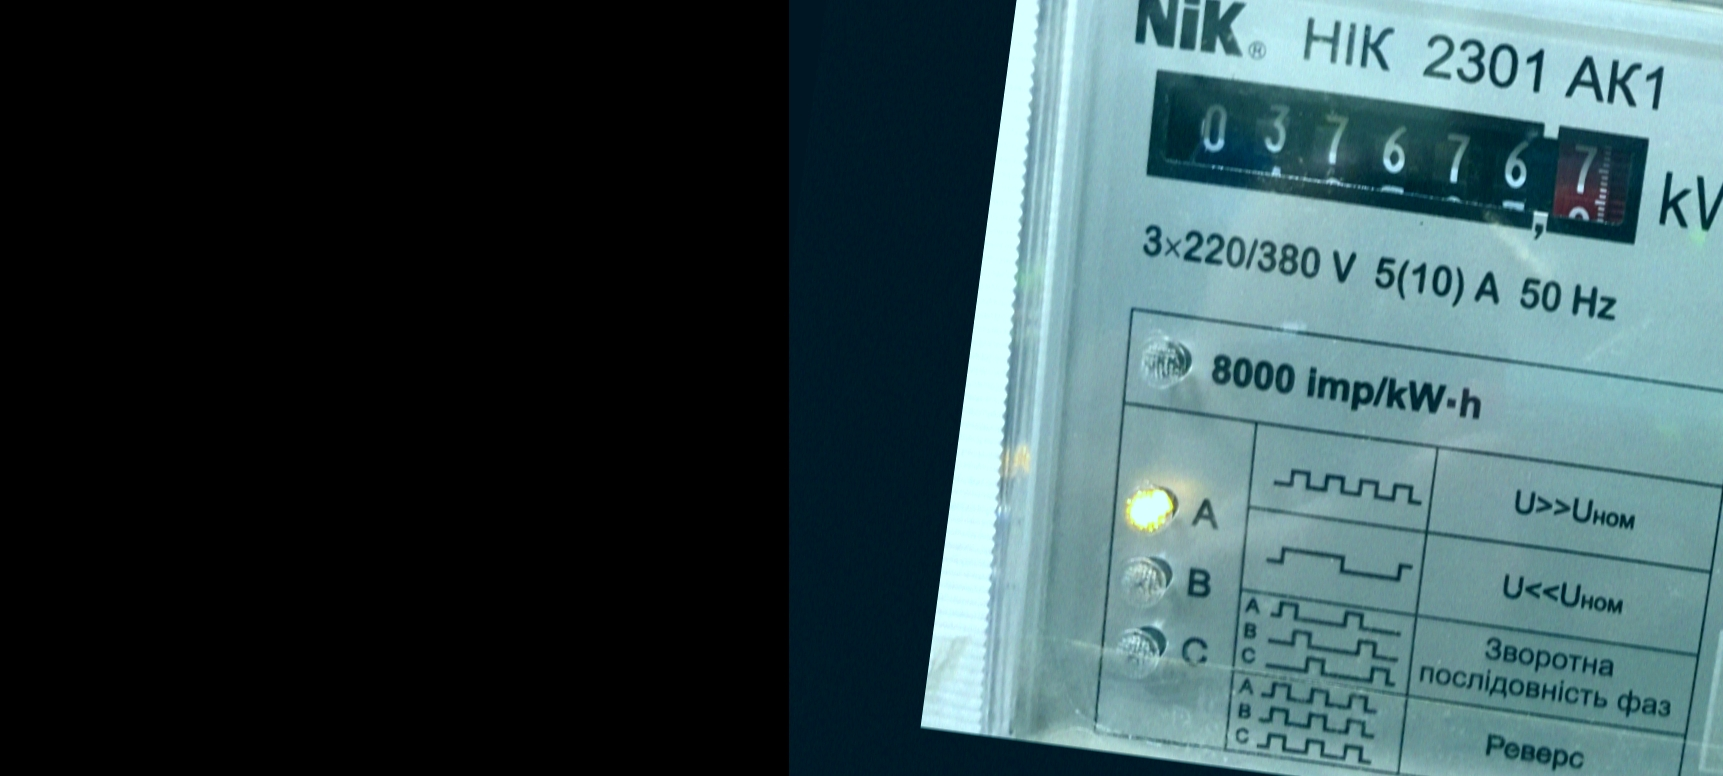0: (1198, 96, 1240, 154)
3: (1261, 96, 1297, 155)
6: (1379, 117, 1418, 174), (1502, 132, 1539, 190)
7: (1439, 126, 1478, 188), (1319, 107, 1357, 167), (1570, 137, 1604, 196)
screen: (1129, 49, 1671, 263)
